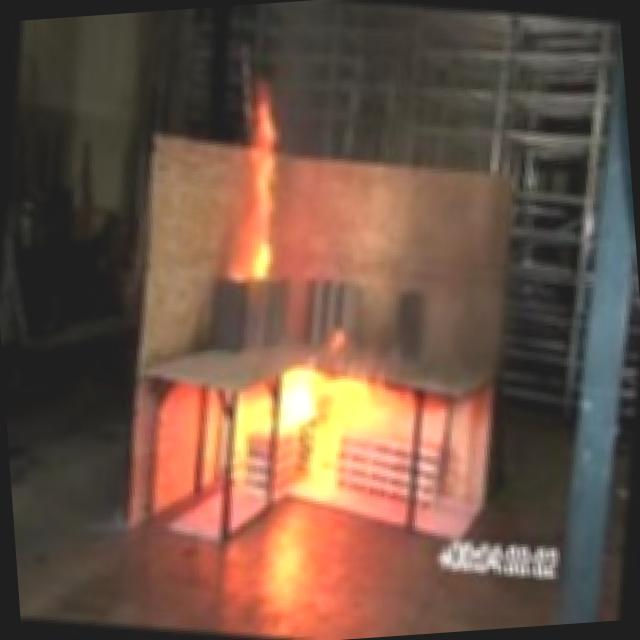fire: (186, 65, 363, 330), (246, 332, 396, 498)
